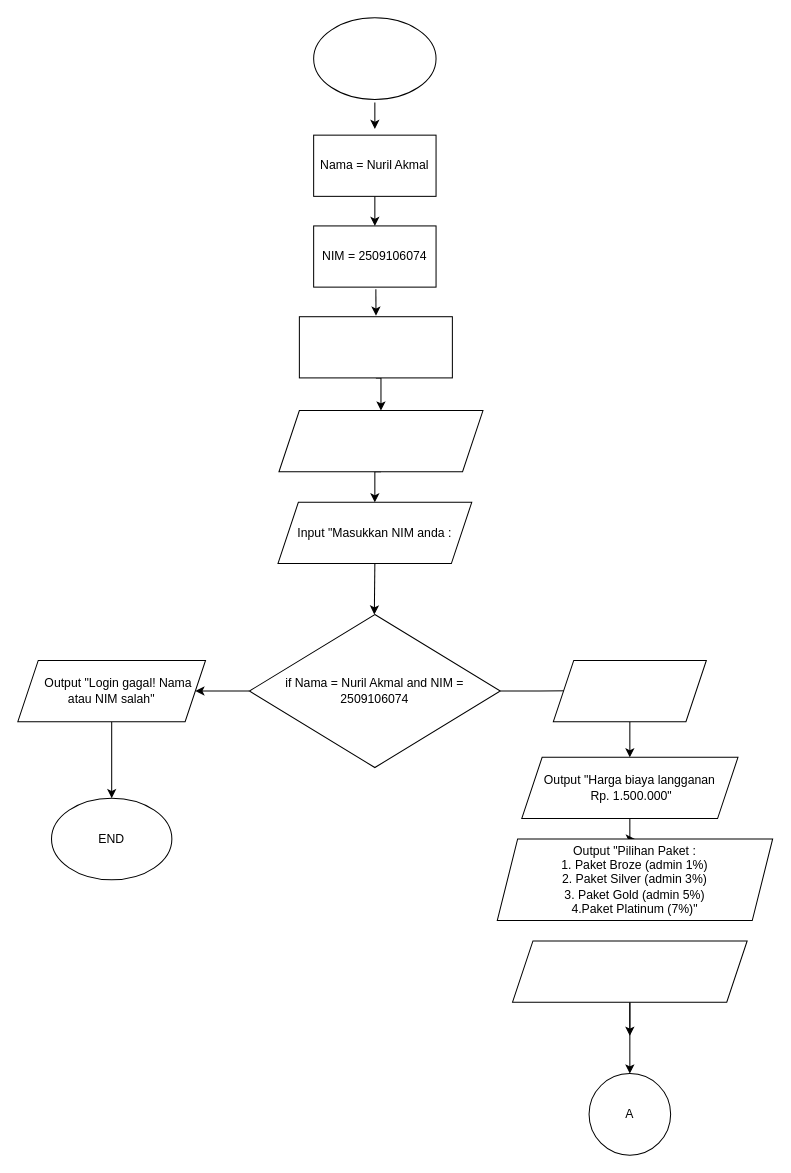
The diagram is 791 pixels wide and 1173 high, and some of its shapes have lost their labels. The shapes that lost their labels are listed below. From the top down, each one's centre as x and y in pixels, then its label:
the point at 374,58: START
the point at 375,347: Harga Tiket = Rp 1.500.000
the point at 380,441: Input "Masukkan Nama Anda :
the point at 629,690: Output "Selamat login berhasil"
the point at 629,971: Input "Masukkan pilihan paket anda (1/2/3/4)
